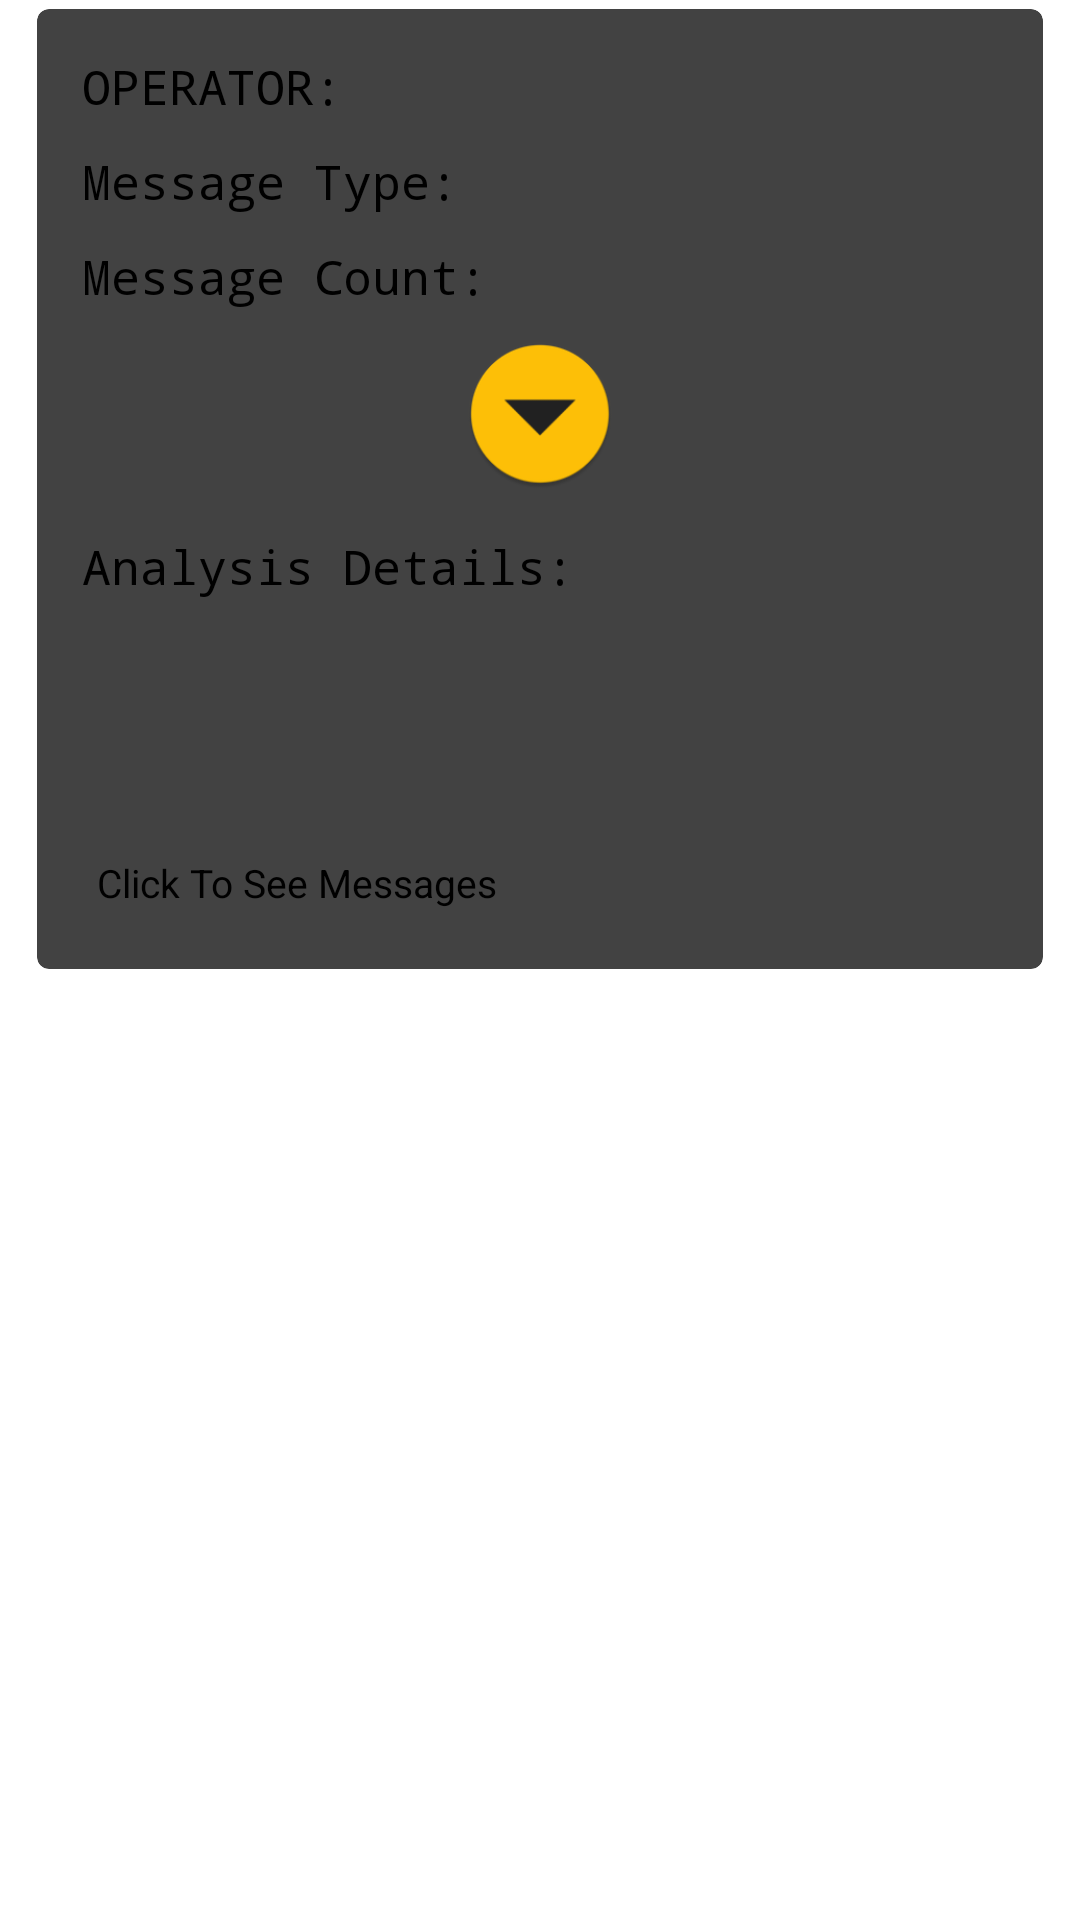

Icons on this 1080×1920 Android screen, each with the point to tap as [x,y]:
expand cardview down: [540,413]
